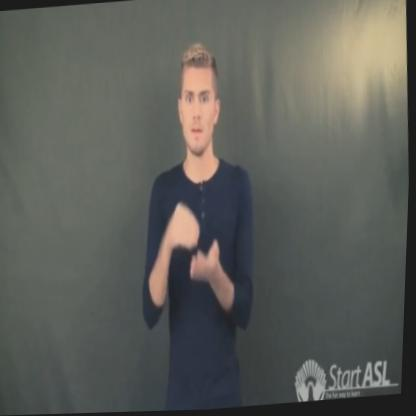Expensive: (146, 196, 229, 305)
